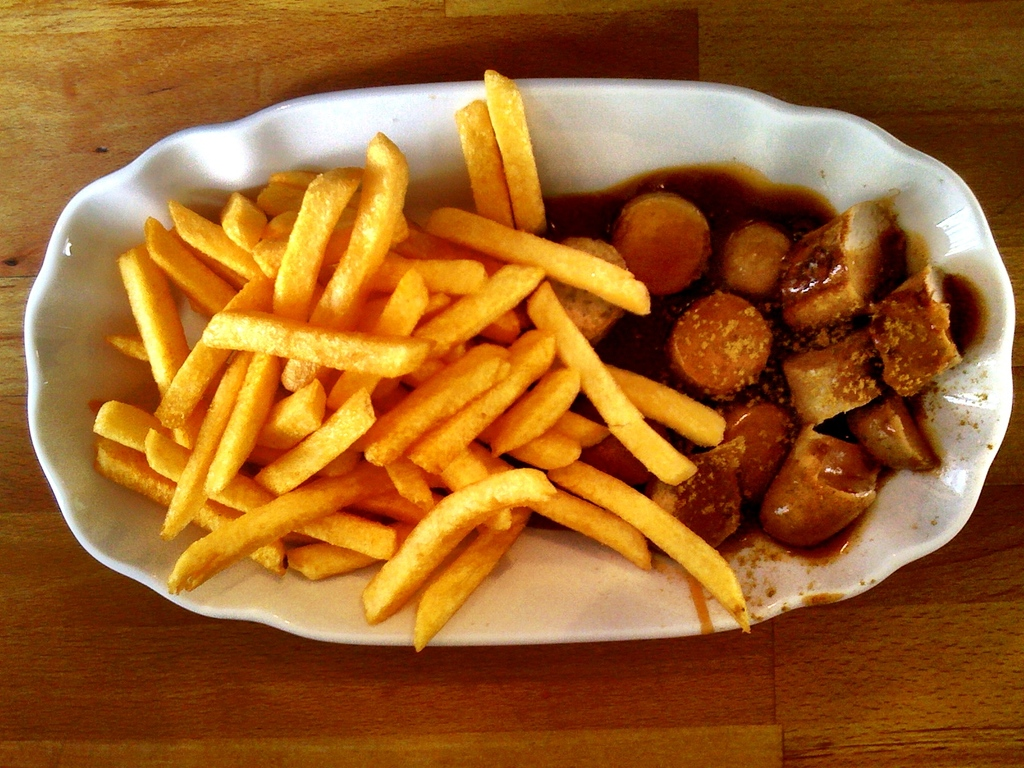French fries: (92, 70, 751, 652)
